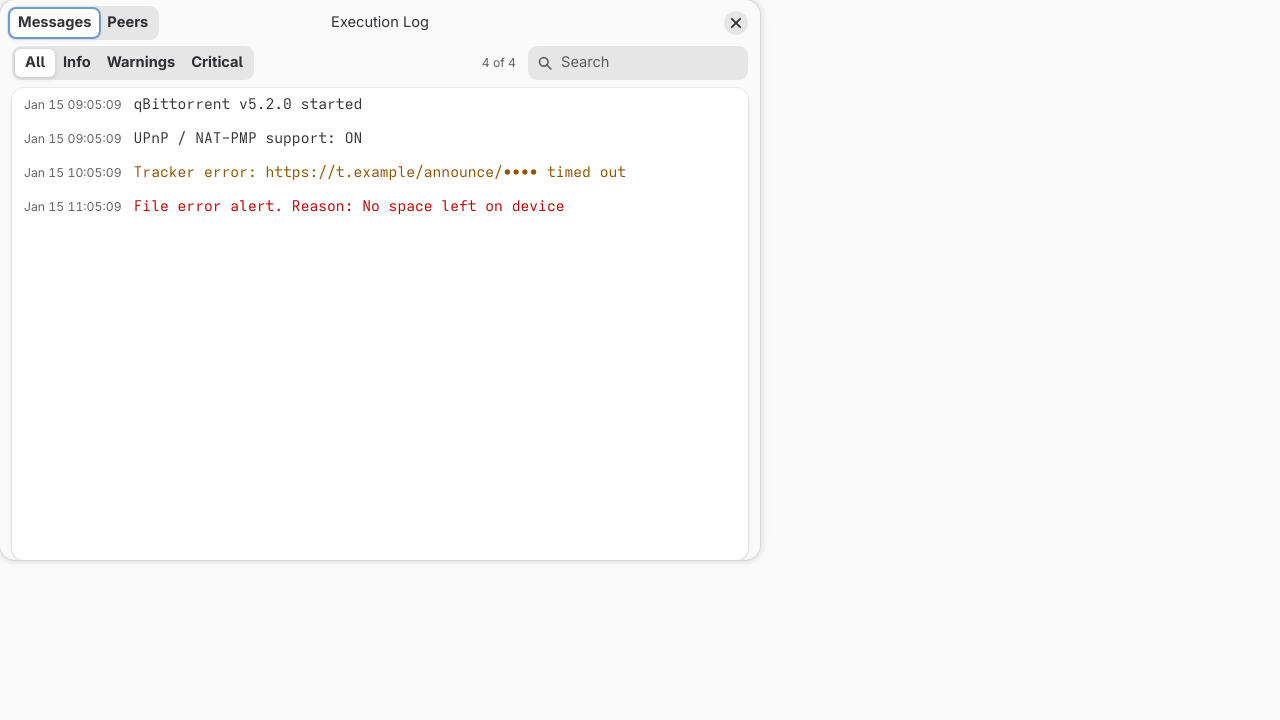
Test: Execution Log › lists banned and blocked peers on the Peers tab
The image size is (1280, 720).
Click the radio button labelled "Peers".
click(128, 23)  # box top-left (99, 9), bottom-right (156, 37)
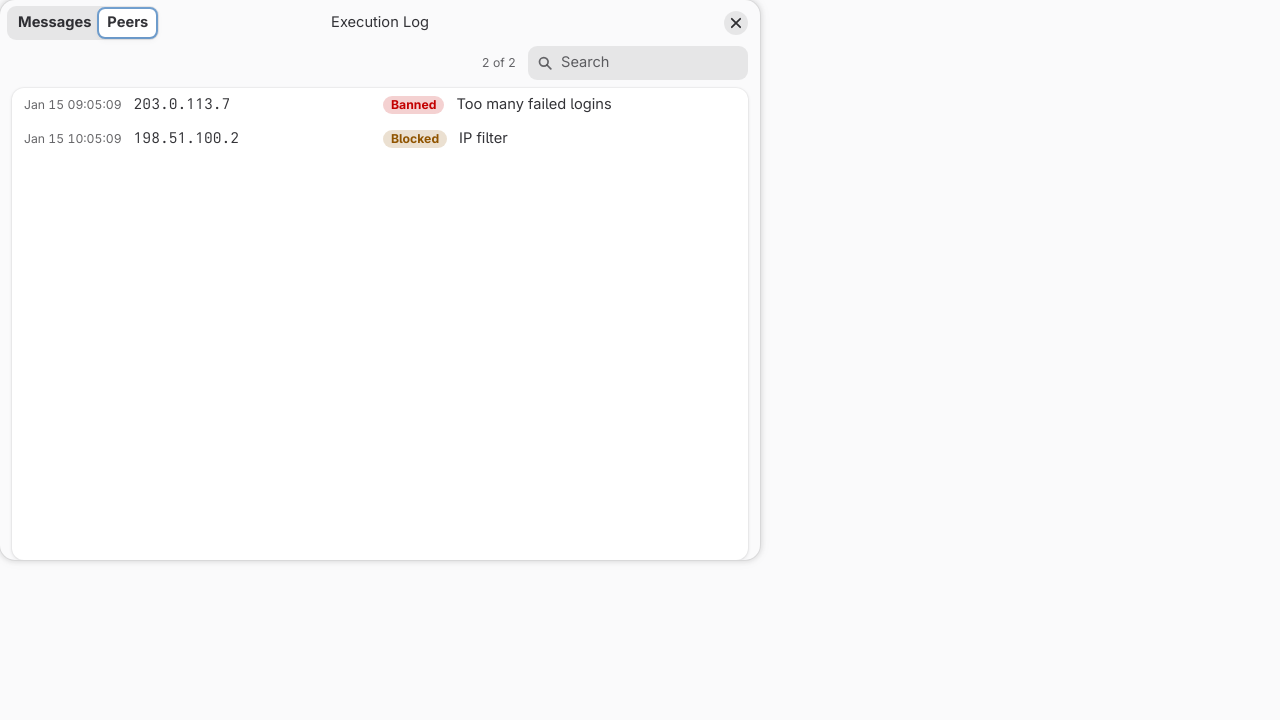
Expected: the number of list items is 2, top-left (12, 88), bottom-right (748, 122); top-left (12, 122), bottom-right (748, 156)
Expected: the list item "Jan 15 09:05:09 203.0.113.7 Banned Too many failed logins" is shown, top-left (12, 88), bottom-right (748, 122)
Expected: the list item "Jan 15 10:05:09 198.51.100.2 Blocked IP filter" is shown, top-left (12, 122), bottom-right (748, 156)
